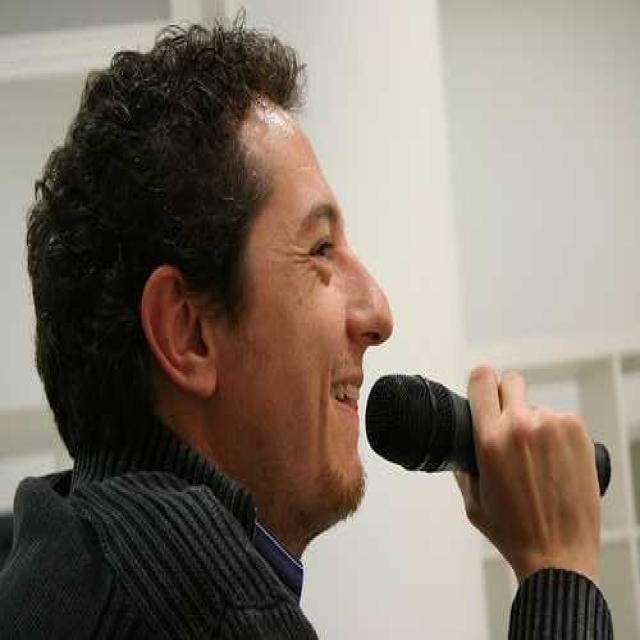microphone: (367, 368, 613, 502)
